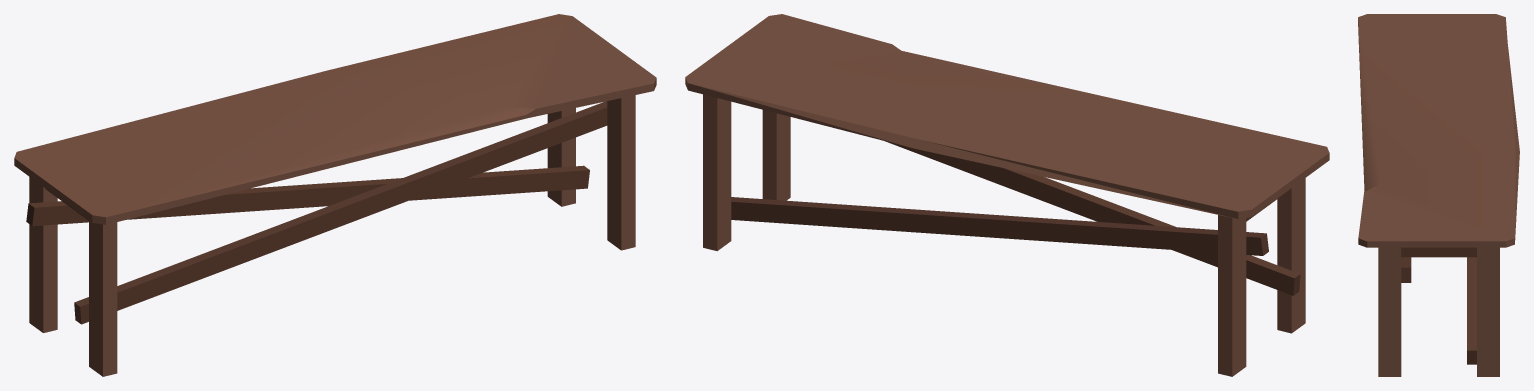
Rendered from Bench_1 Asia.fbx.
3 renders of one model, left to right at view 1: azimuth 30°, elevation 25°; view 2: azimuth 150°, elevation 25°; view 3: azimuth 270°, elevation 25°, orthographic. The views are drawn at different scales.
Visible parts, largest first — view 1: Bench_1; view 2: Bench_1; view 3: Bench_1.
Part boxes in pixels (bbox=[...]): Bench_1: bbox=[14, 14, 656, 376]; Bench_1: bbox=[685, 14, 1329, 376]; Bench_1: bbox=[1358, 14, 1519, 376].
Bounding box in the file's own units: 1.49 × 0.43 × 0.4467.
